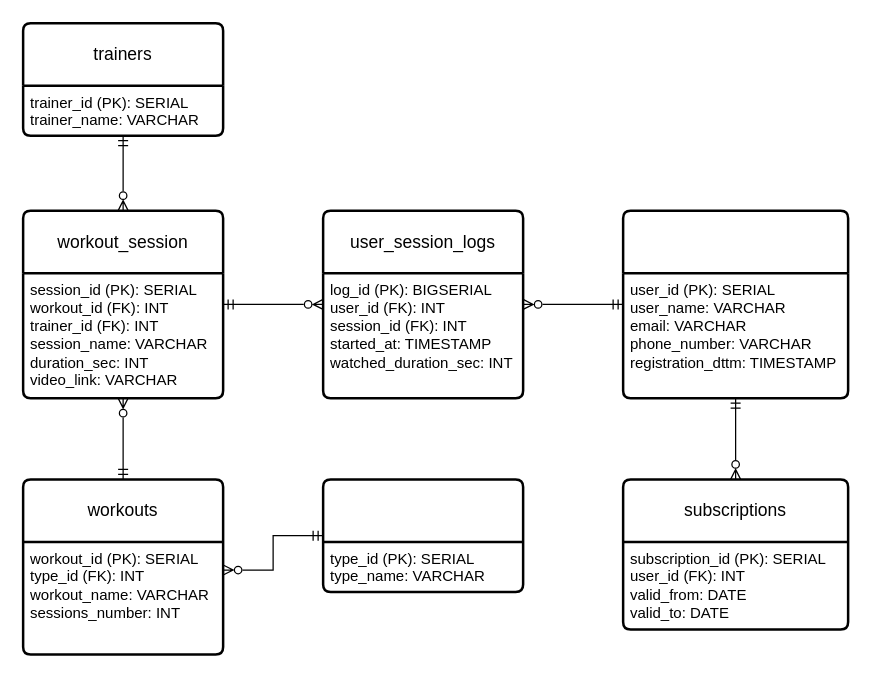
This 870x676 diagram has some shape labels left out. Here are the shapes that lost their labels. From the top down, the box of each, then its label:
(621, 209, 849, 399): users
(321, 478, 524, 592): workout_type
